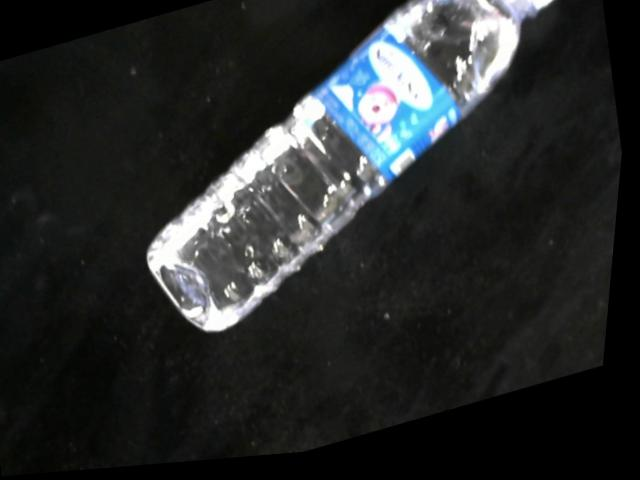bottle: (148, 0, 564, 338)
